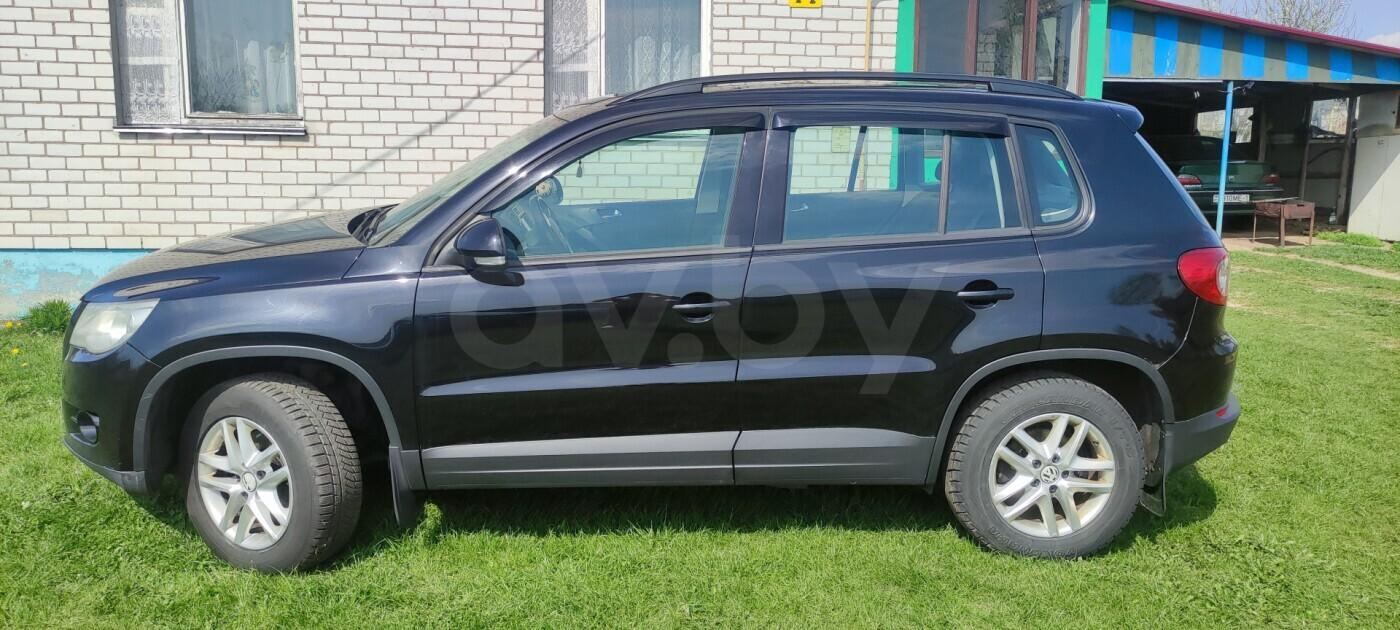Tiguan_2007-2011: (55, 72, 1241, 571)
